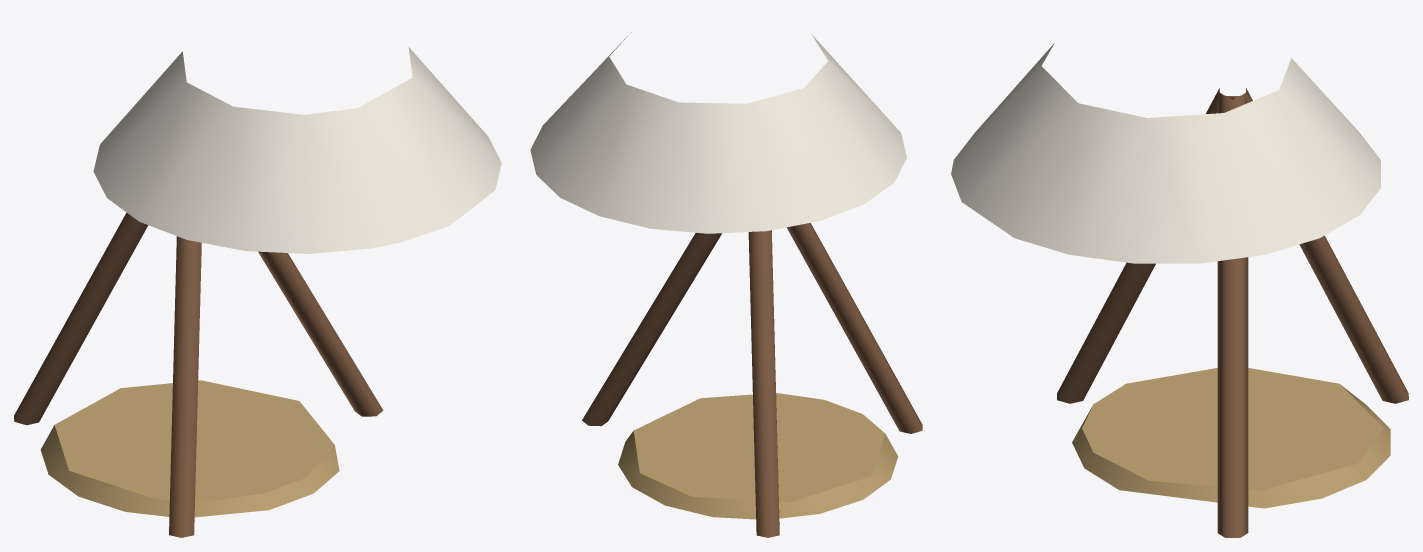
Rendered from lamp-16-2.lod.glb.
3 renders of one model, left to right at view 1: azimuth 30°, elevation 25°; view 2: azimuth 150°, elevation 25°; view 3: azimuth 270°, elevation 25°, orthographic. The views are drawn at different scales.
Visible parts, largest first — view 1: part (×3); view 2: part (×3); view 3: part (×3).
Boxes of the visible parts, <box> form: part (×3): <box>14,47,501,537</box>; part (×3): <box>530,32,922,537</box>; part (×3): <box>951,43,1408,537</box>.
Bounding box in the file's own units: 1 × 1 × 1.
